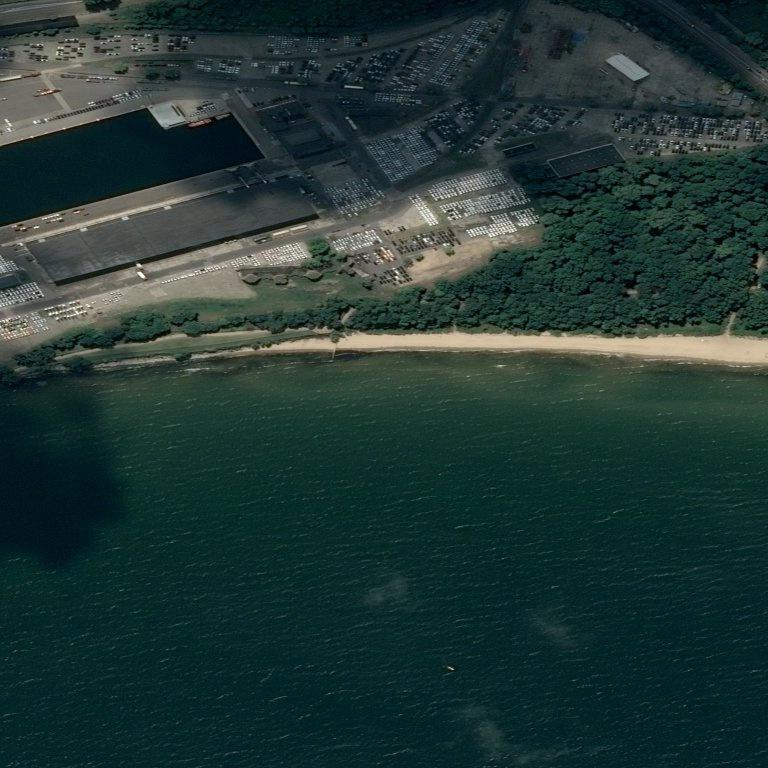ship: (453, 669, 455, 671), (446, 667, 448, 668), (451, 666, 451, 672), (449, 666, 449, 667)
